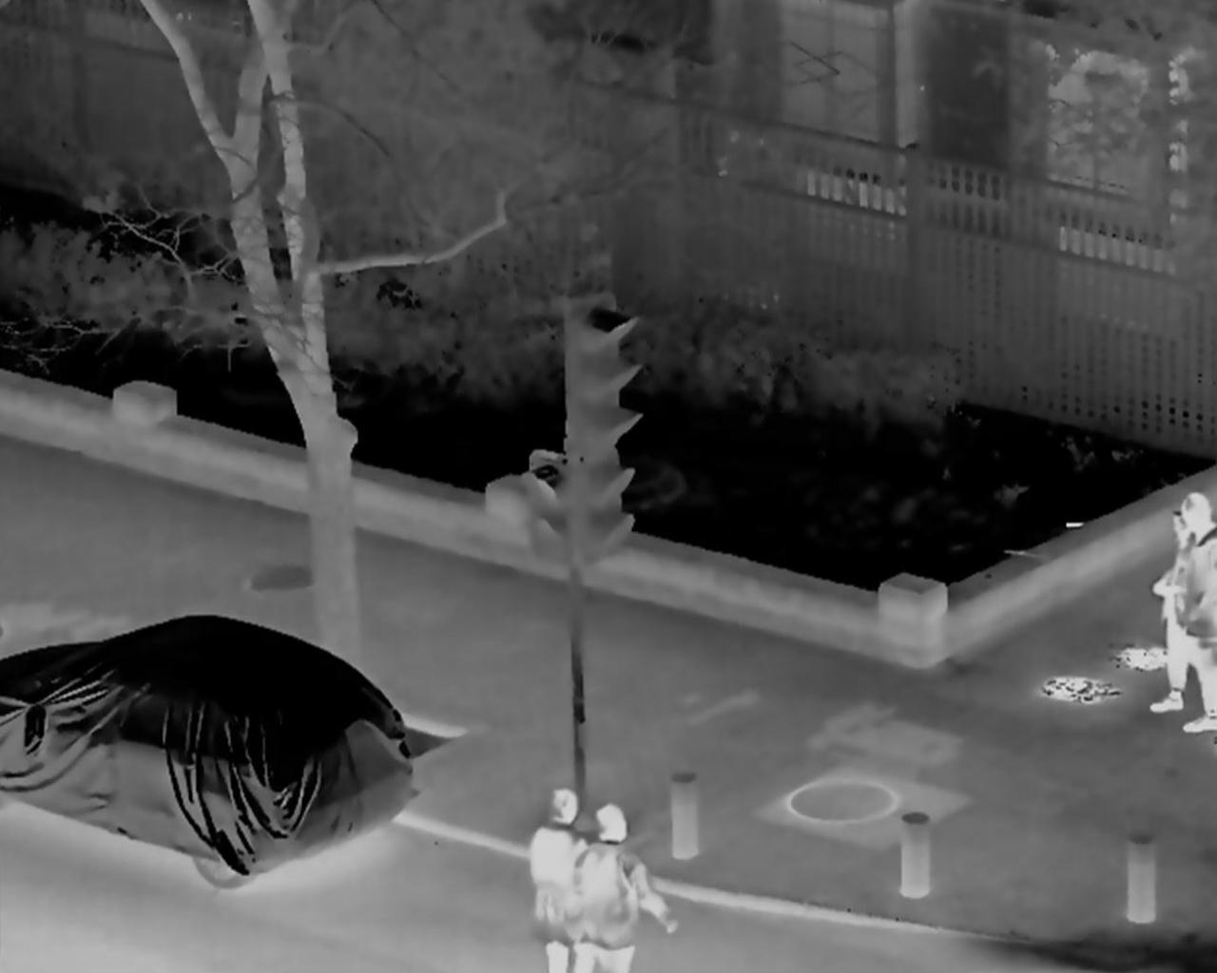person: (573, 801, 681, 972), (1141, 511, 1213, 733), (522, 787, 599, 973), (1179, 495, 1217, 724)
